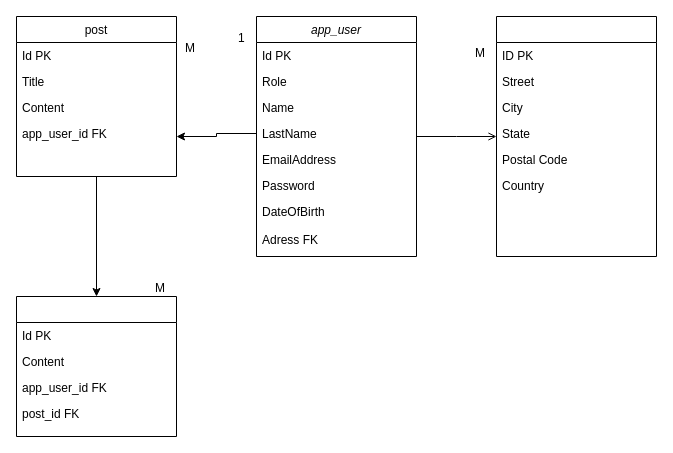
This 673x453 diagram has some shape labels left out. Each missing label, with the box of its shape:
addresses: (496, 16, 656, 256)
comment: (16, 296, 176, 436)
